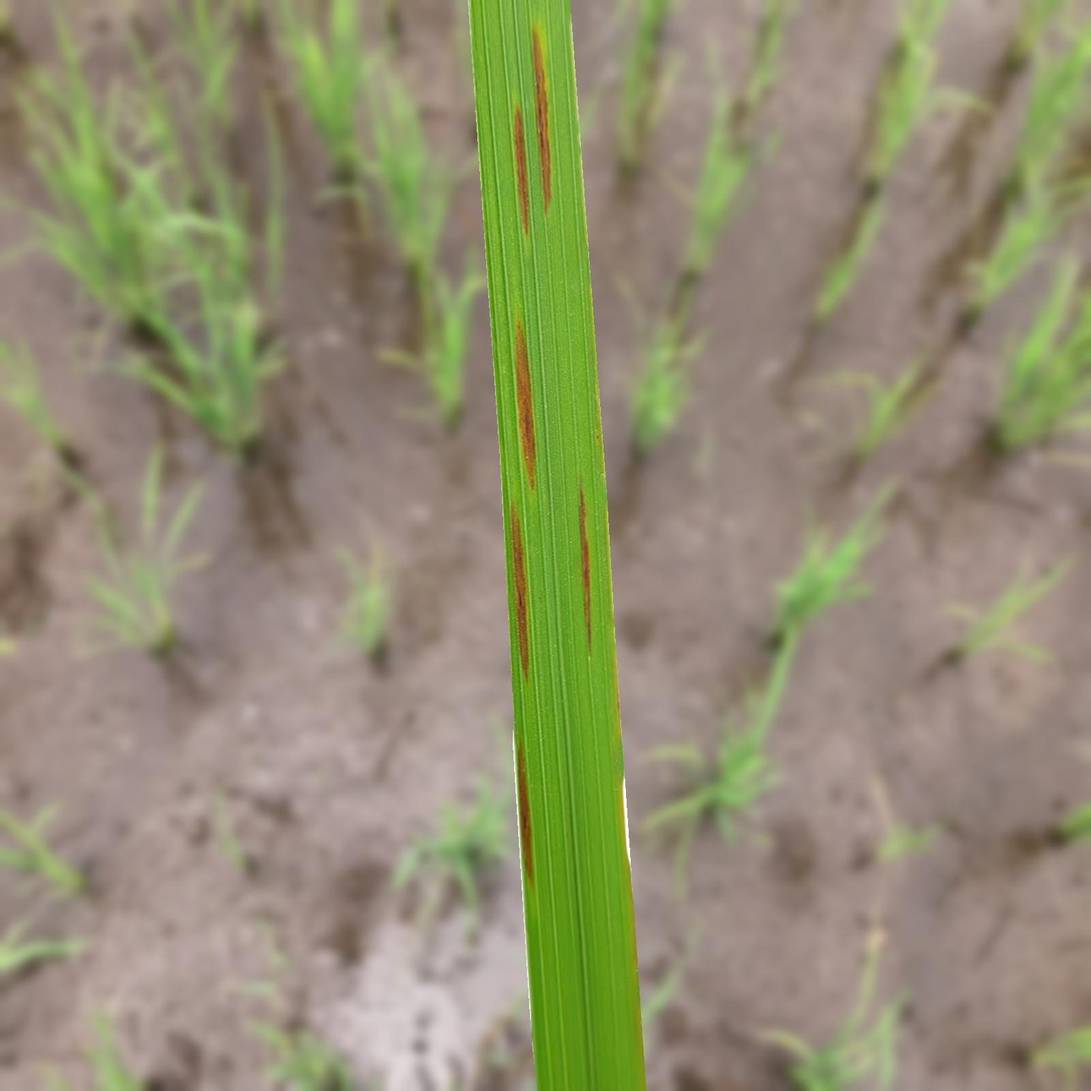LEAF: (468, 0, 646, 1090)
NBS: (515, 320, 535, 488), (533, 29, 551, 210), (511, 504, 528, 676), (513, 105, 528, 234), (580, 485, 591, 648)
